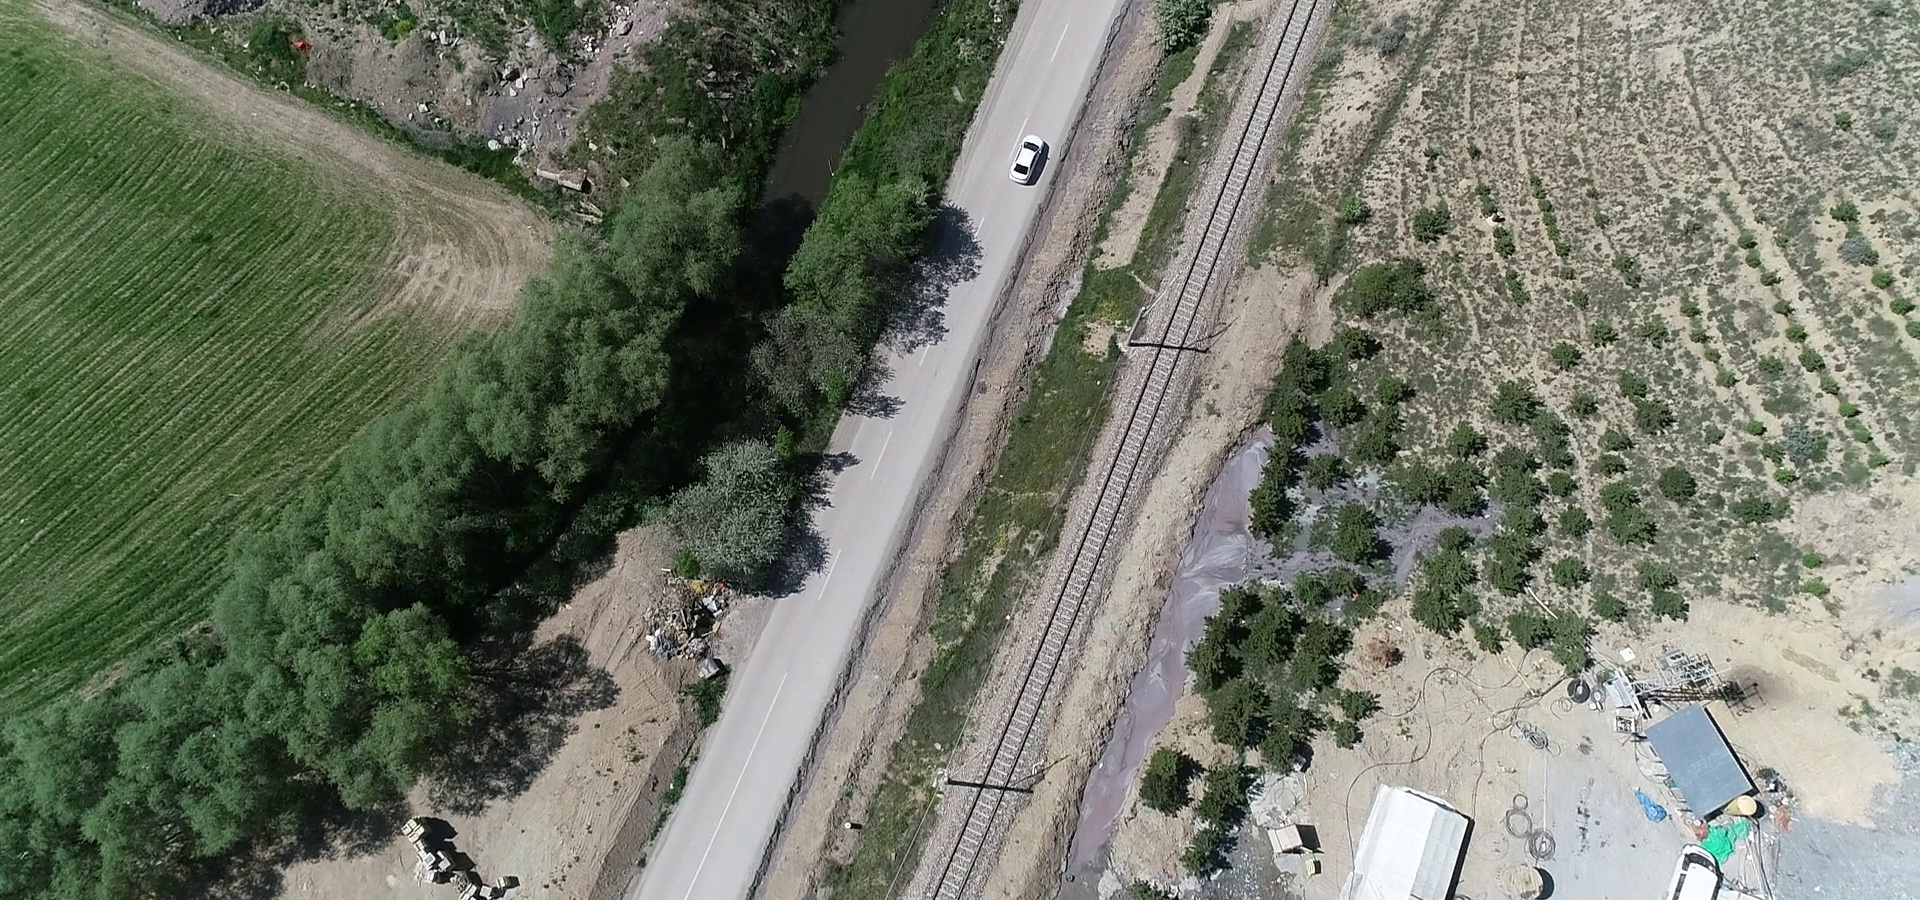arac: (1007, 129, 1056, 197)
